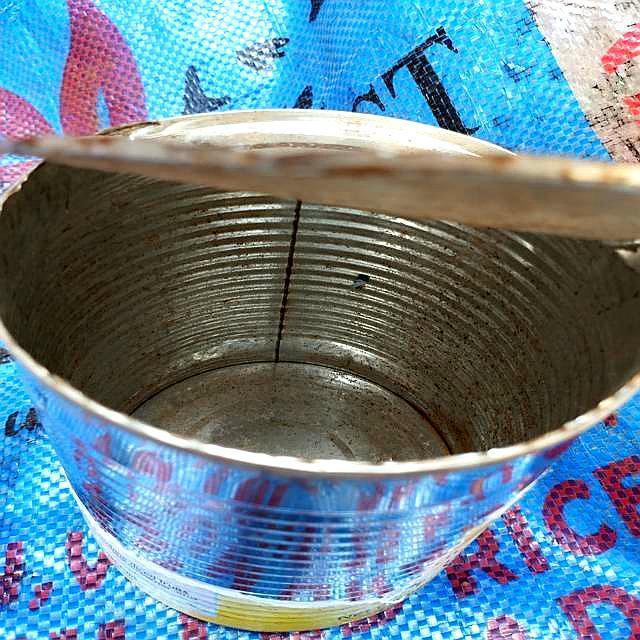Non-biodegradable: (1, 107, 640, 633)
